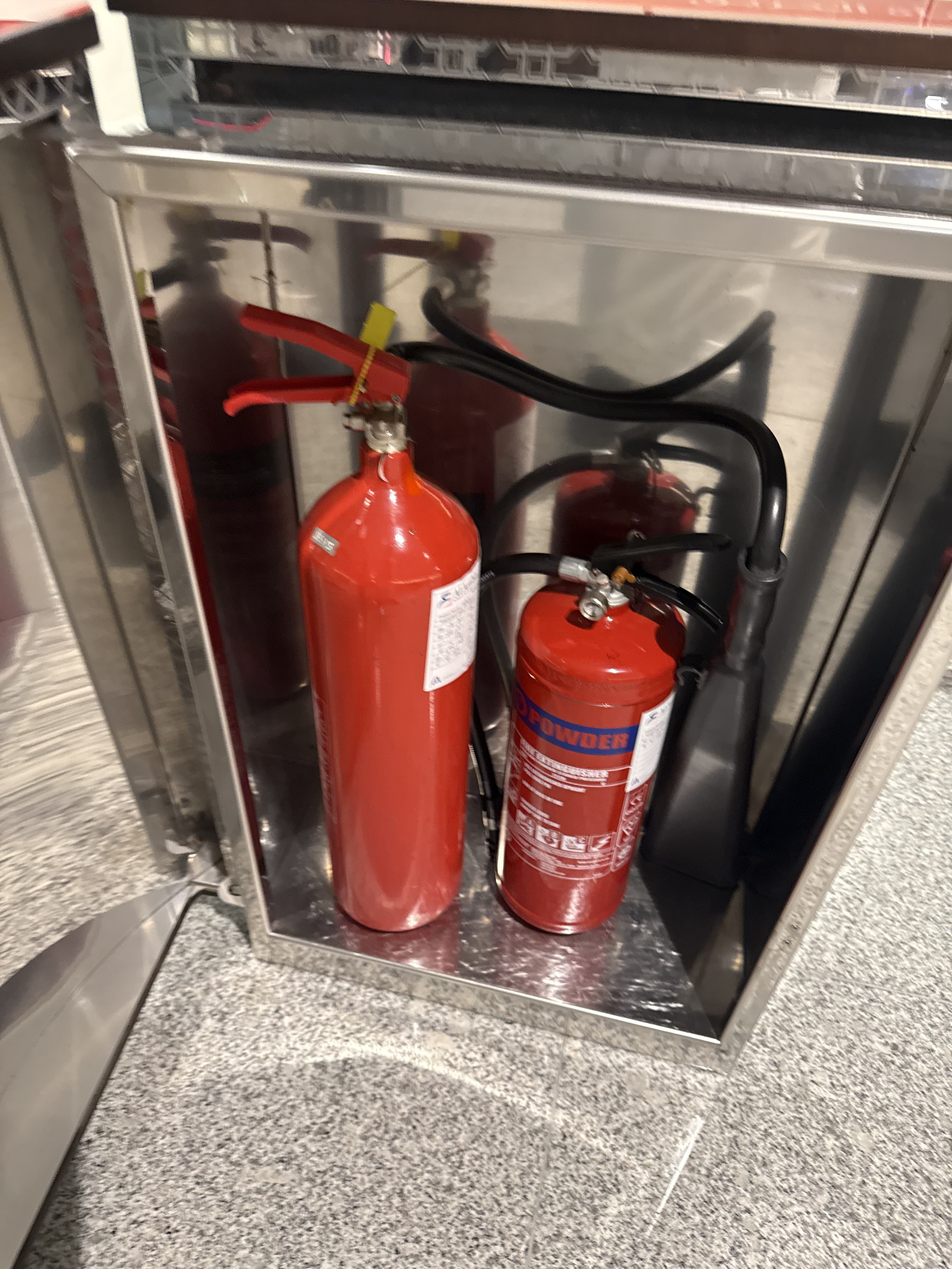fire_extinguisher: (221, 299, 483, 932), (488, 447, 703, 936), (365, 228, 539, 737), (492, 554, 688, 936)
